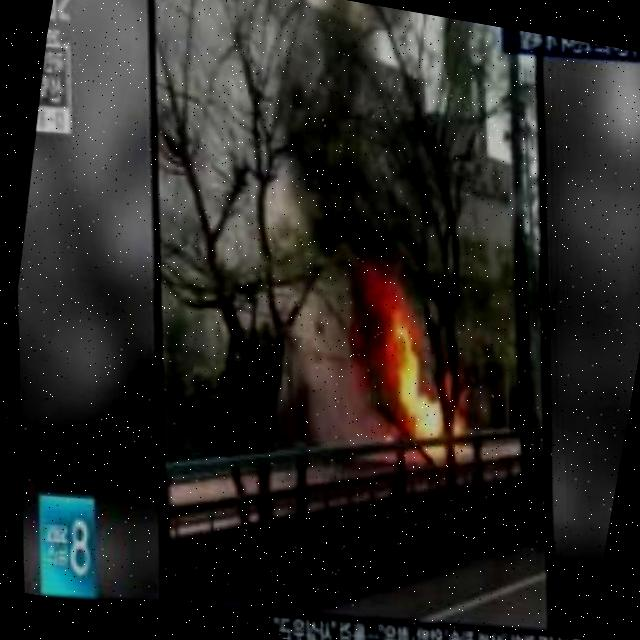fire: (321, 262, 445, 410), (376, 379, 464, 469)
